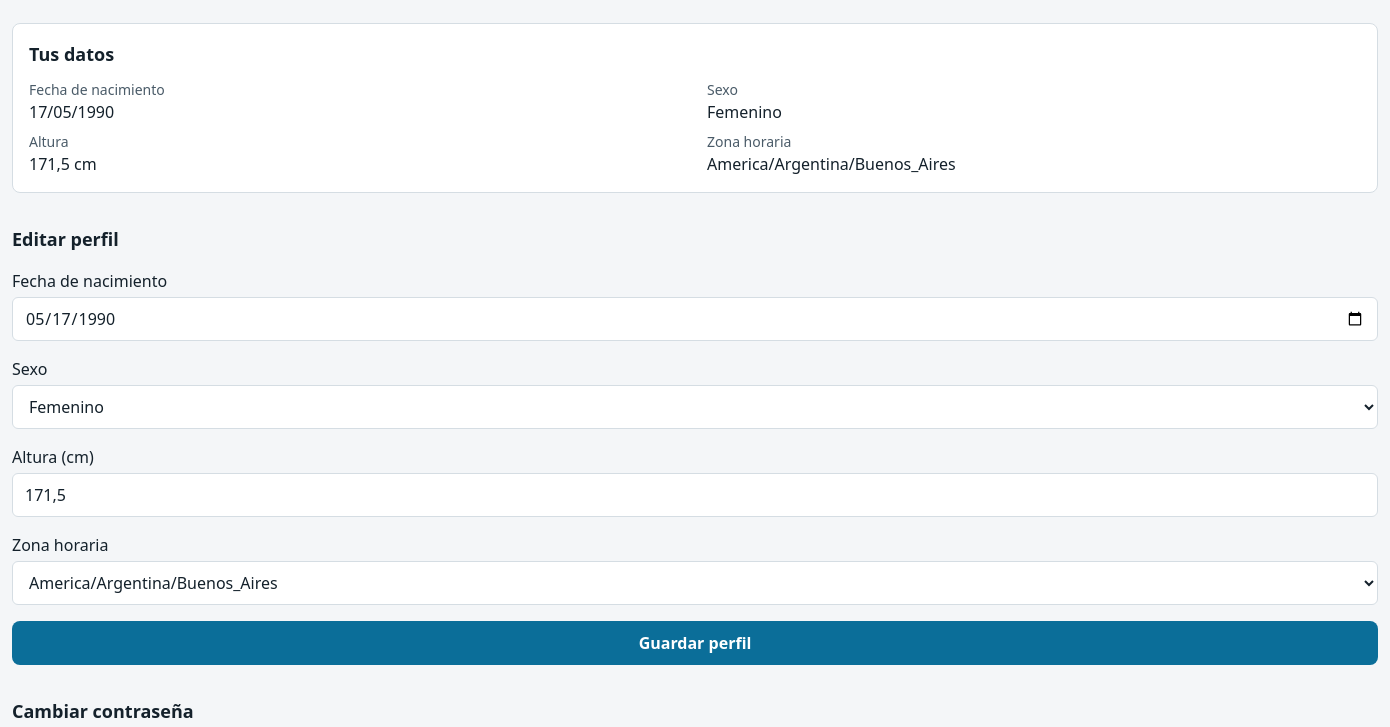
Test: ProfilePage: formulario › FR-013: guarda los cambios y confirma el éxito
Replace the text in the field labelled "Altura (cm)" with "172": [695, 495] box [12,473,1378,517]
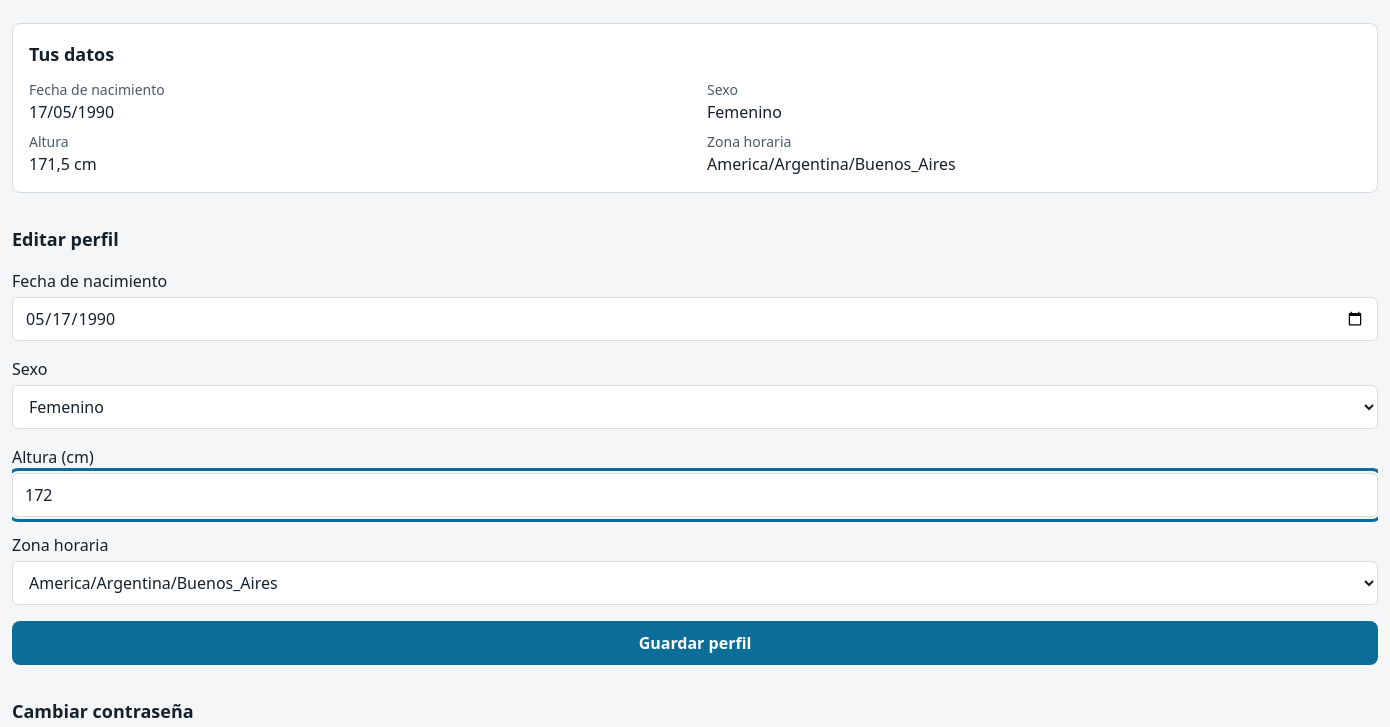
Click the button "Guardar perfil": [695, 643] box [12,621,1378,665]
(page scrolled)
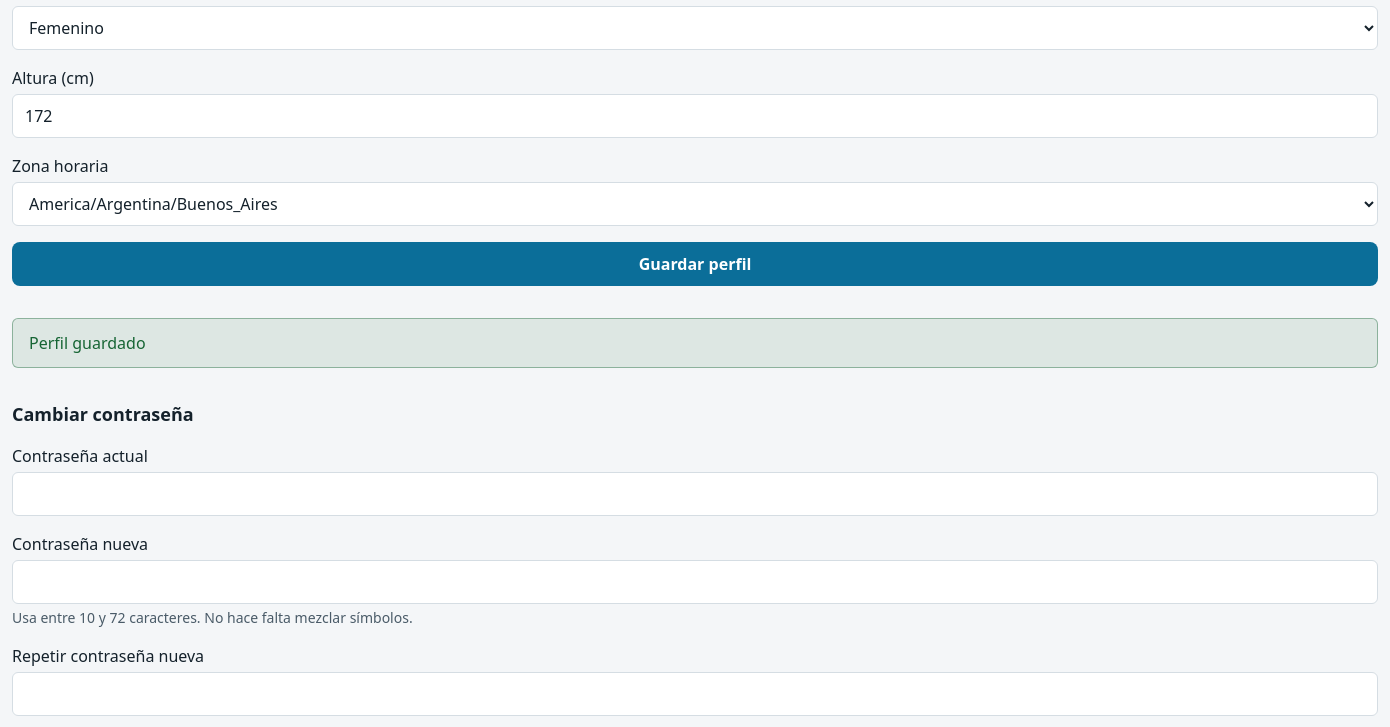
Expected: the text "Perfil guardado" is shown, [12,318,1378,368]
